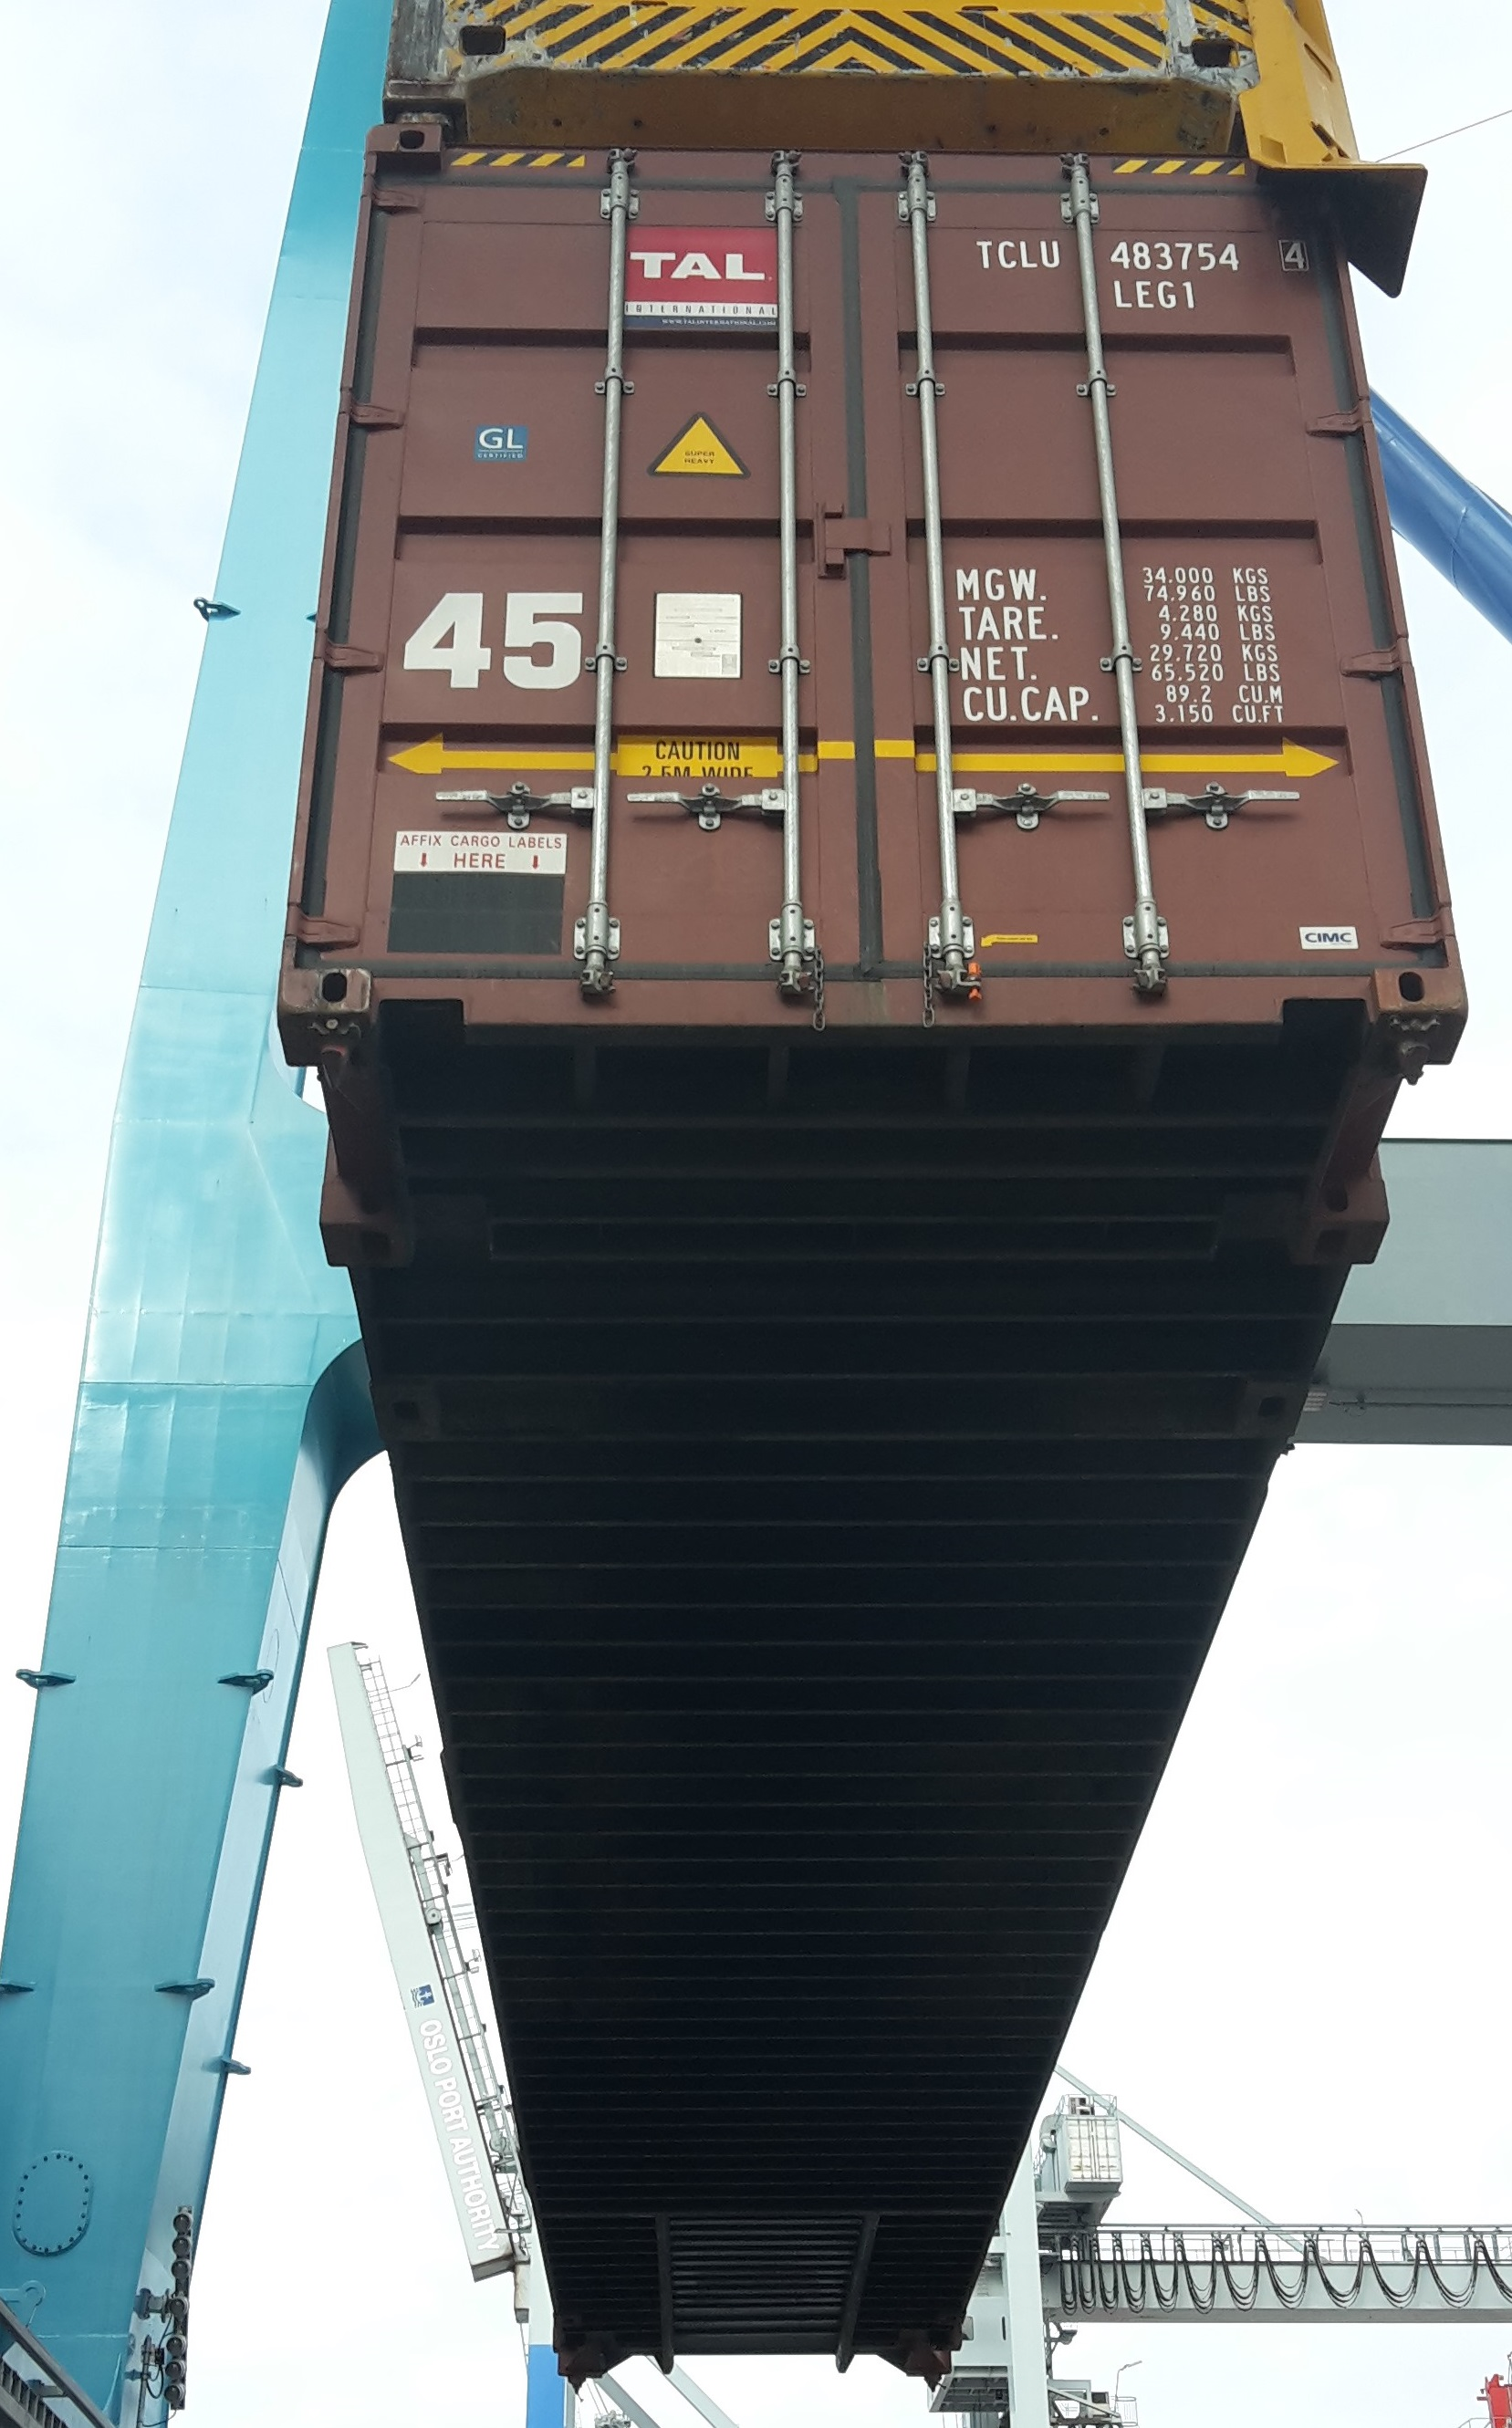container_door: (263, 141, 1441, 1035)
